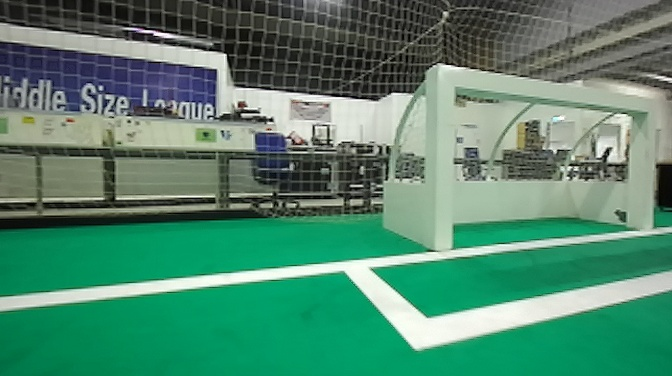goalpost: (421, 59, 456, 252), (625, 101, 655, 229)
